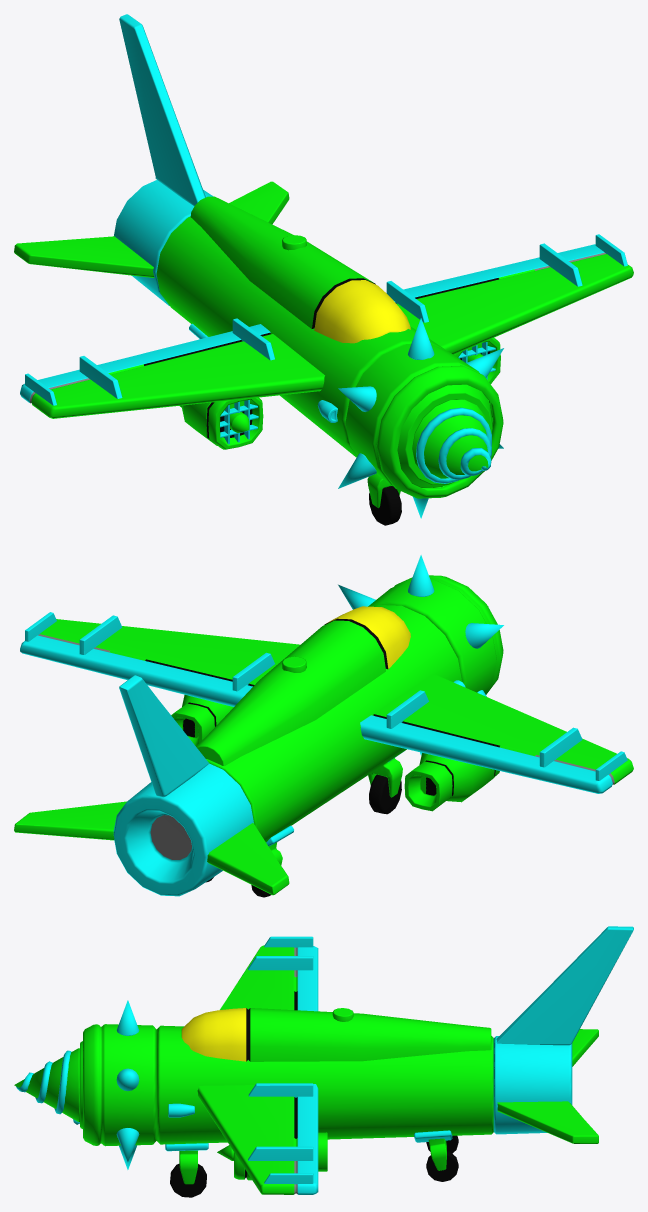
3 renders of one model, top to bottom at view 1: azimuth 30°, elevation 25°; view 2: azimuth 150°, elevation 25°; view 3: azimuth 270°, elevation 25°, orthographic. The views are drawn at different scales.
Visible parts, largest first — view 1: Body1, Propeller1, Wing1_R, Fin1, Wing1_L, Spurt1_R, Body1_C, Spurt01_L; view 2: Body1, Fin1, Wing1_R, Wing1_L, Propeller1, Spurt1_R, Spurt01_L, Body1_C, Body1_A; view 3: Body1, Fin1, Propeller1, Wing1_L, Wing1_R, Body1_C, Body1_B, Spurt01_L.
Boxes of the visible parts, x1=… form: Body1: x1=156, y1=196, x2=444, y2=457; Propeller1: x1=338, y1=318, x2=503, y2=518; Wing1_R: x1=20, y1=318, x2=324, y2=418; Fin1: x1=14, y1=14, x2=289, y2=305; Wing1_L: x1=386, y1=234, x2=633, y2=354; Spurt1_R: x1=179, y1=397, x2=263, y2=449; Body1_C: x1=367, y1=474, x2=401, y2=525; Spurt01_L: x1=454, y1=338, x2=500, y2=384; Body1: x1=196, y1=605, x2=465, y2=842; Fin1: x1=14, y1=675, x2=289, y2=896; Wing1_R: x1=360, y1=673, x2=633, y2=793; Wing1_L: x1=20, y1=612, x2=300, y2=706; Propeller1: x1=338, y1=555, x2=503, y2=755; Spurt1_R: x1=404, y1=753, x2=499, y2=811; Spurt01_L: x1=171, y1=695, x2=233, y2=745; Body1_C: x1=368, y1=751, x2=404, y2=814; Body1_A: x1=251, y1=825, x2=293, y2=897; Body1: x1=156, y1=1008, x2=493, y2=1144; Fin1: x1=493, y1=926, x2=633, y2=1143; Propeller1: x1=14, y1=1000, x2=156, y2=1169; Wing1_L: x1=197, y1=1083, x2=318, y2=1194; Wing1_R: x1=220, y1=936, x2=318, y2=1011; Body1_C: x1=165, y1=1143, x2=208, y2=1197; Body1_B: x1=414, y1=1130, x2=458, y2=1181; Spurt01_L: x1=217, y1=1132, x2=327, y2=1180.
Bounding box in the file's own units: 16.67 × 8.63 × 18.01.
